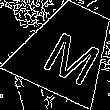M_NE: (32, 16, 102, 82)
